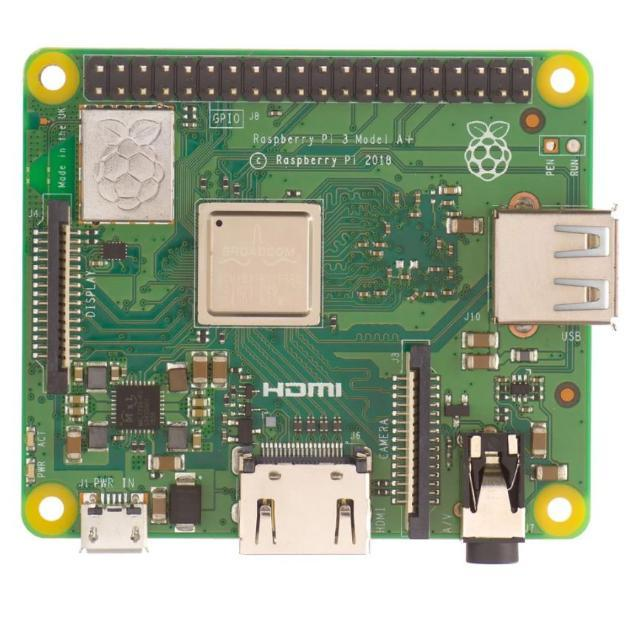Raspberry-Pi-3-A-: (23, 50, 618, 564)
